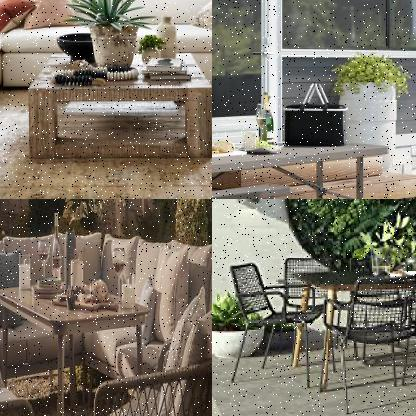table: (24, 49, 211, 168), (0, 271, 153, 415), (290, 263, 415, 397), (212, 132, 415, 198)
